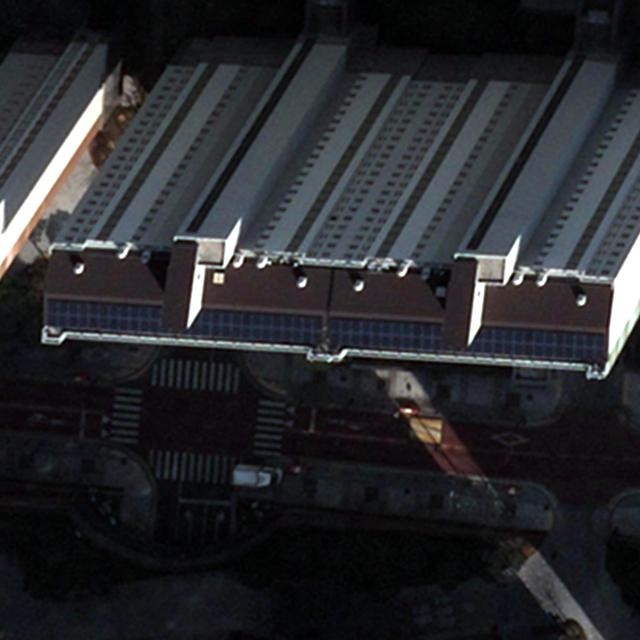panel: (323, 307, 606, 373), (44, 296, 326, 353)
